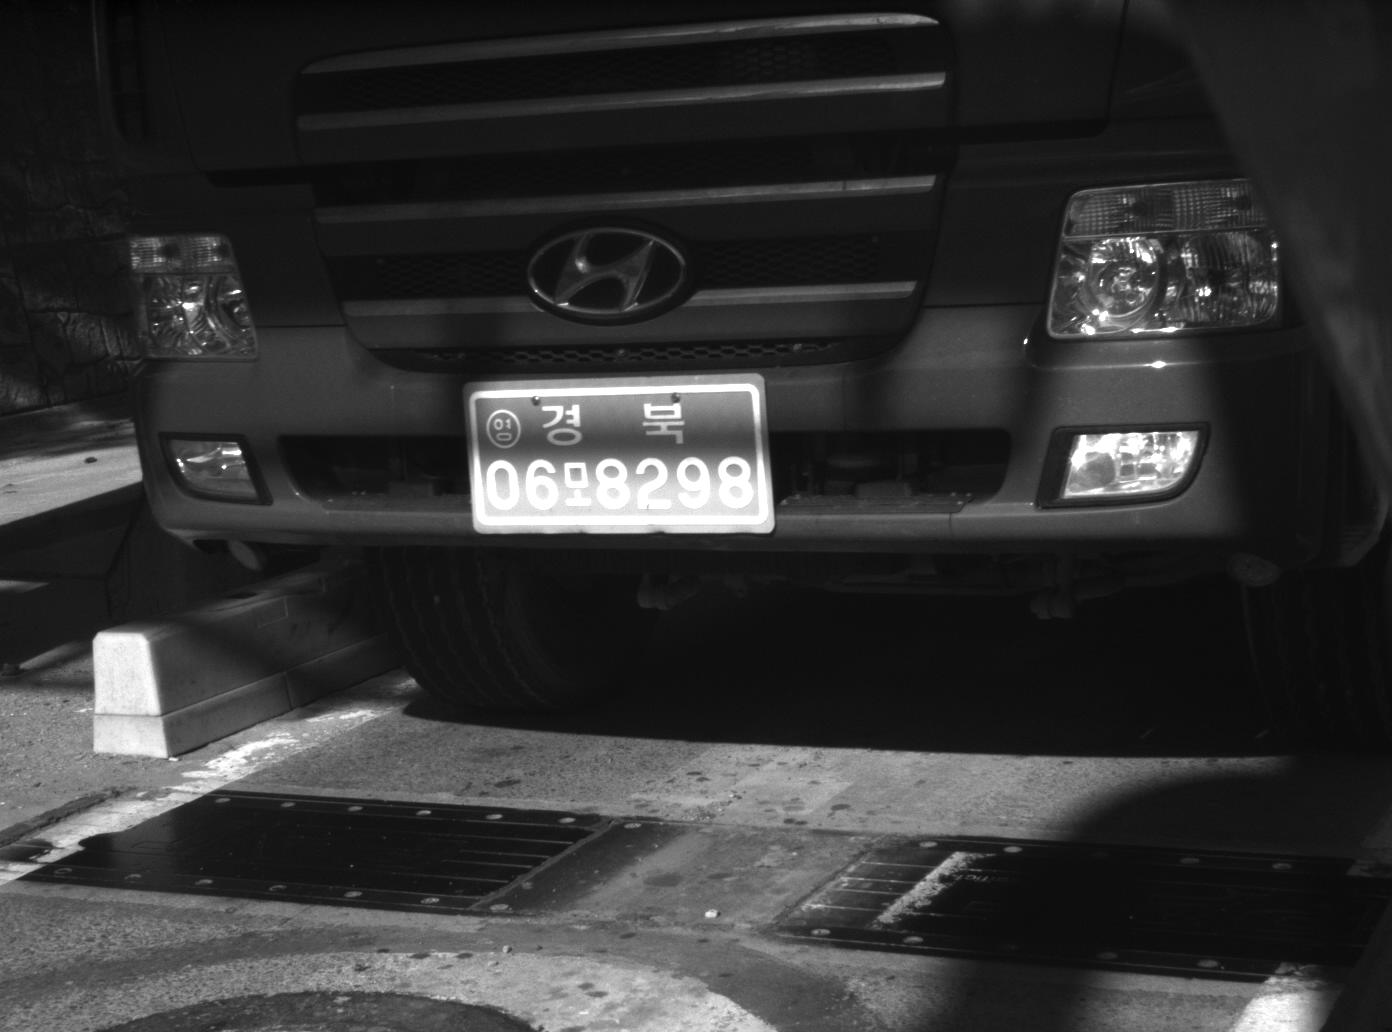car: (80, 1, 1384, 704)
plate: (465, 378, 765, 533)
